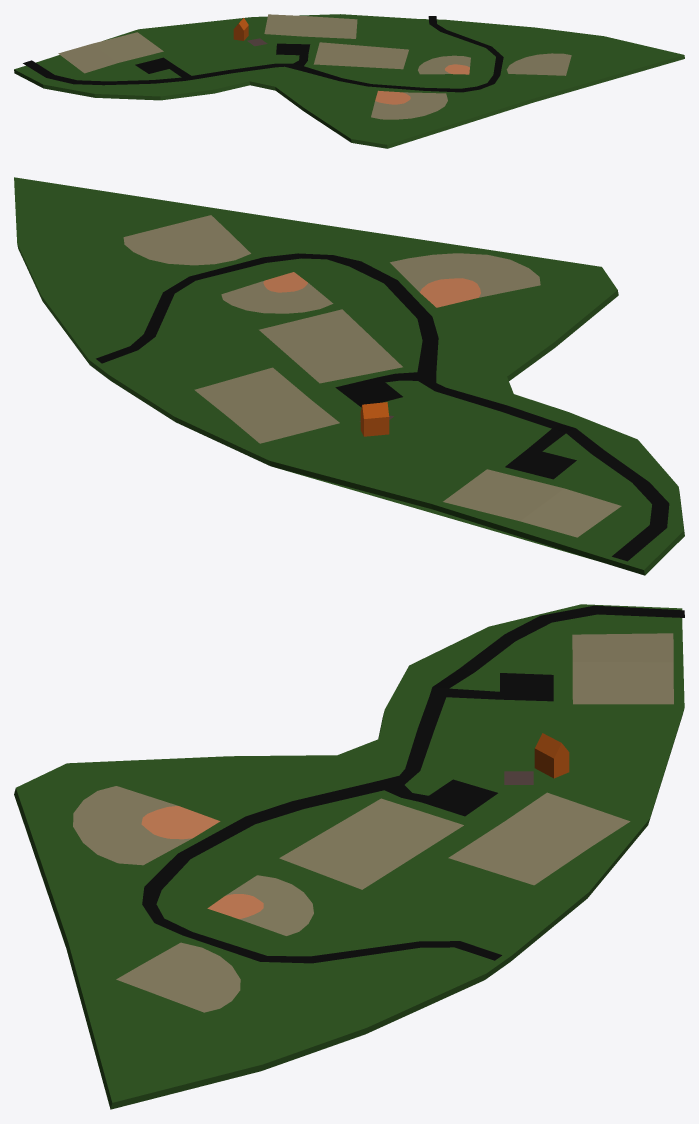
Rendered from broadneckpark.glb.
3 views of the same model, one above another, from view 1: azimuth 30°, elevation 25°; view 2: azimuth 150°, elevation 25°; view 3: azimuth 270°, elevation 25° (orthographic). The views are drawn at different scales.
Visible parts, largest first — view 1: BroadneckPark.001; view 2: BroadneckPark.001; view 3: BroadneckPark.001.
Part boxes in pixels (x1=…): BroadneckPark.001: x1=14, y1=14, x2=684, y2=148; BroadneckPark.001: x1=14, y1=177, x2=684, y2=575; BroadneckPark.001: x1=14, y1=604, x2=684, y2=1109.
Bounding box in the file's own units: 1.11 × 0.0727 × 0.6441.
